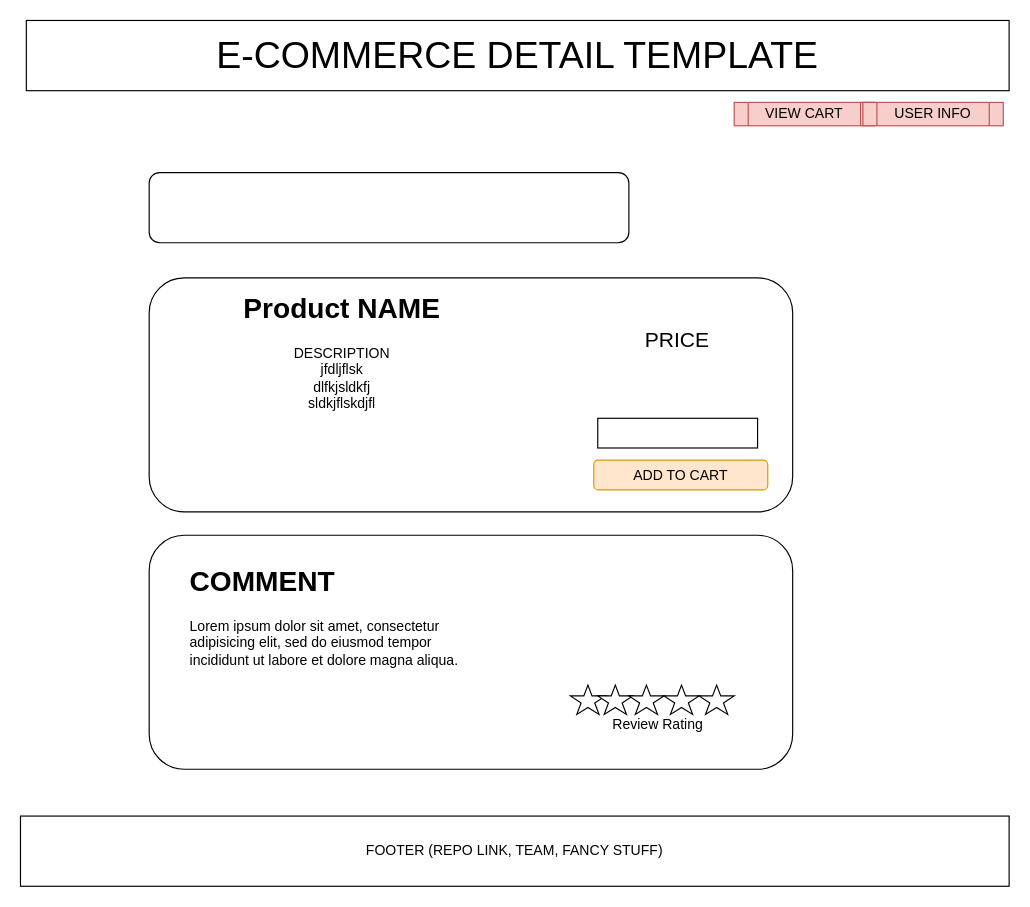
Image size: 1030x907. Some labels were removed from this diagram. The shapes that lost their labels are listed below. From the top down, each one's centre as x and y in pixels, then its label:
At (x=388, y=207): "Product Category, Product Name".
At (x=677, y=432): "QTY".
